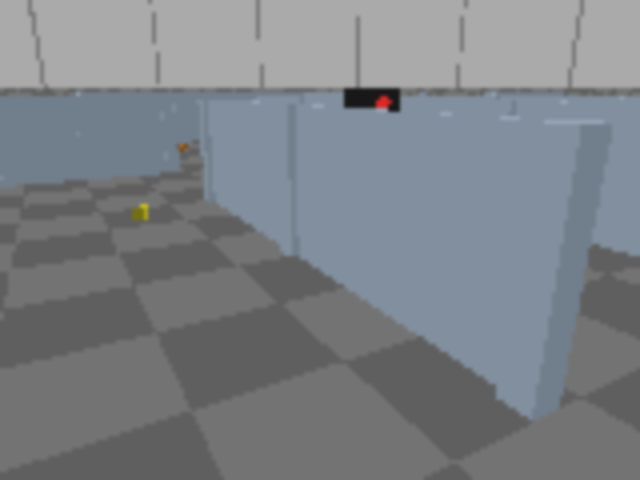puck: (131, 206, 149, 222)
